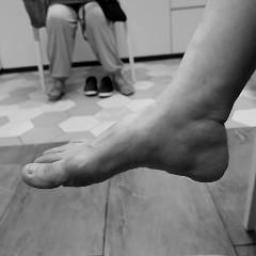Medial View -Right Foot-: (13, 76, 244, 207)
